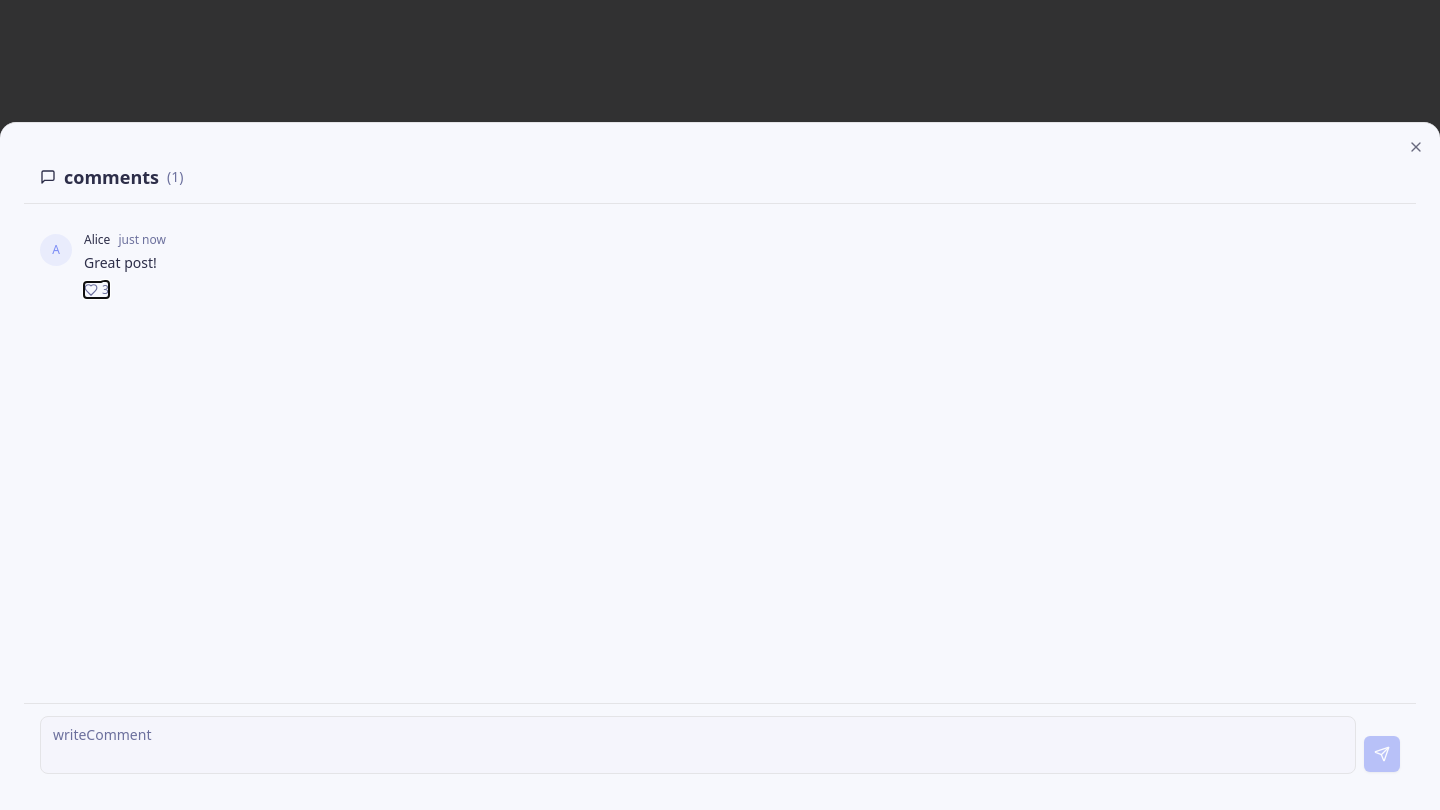
Scenario: CommentSheet › send button is enabled when input has content
Type "A new comment" into the text box. click: (698, 745)
box: left=40, top=716, right=1356, bottom=774
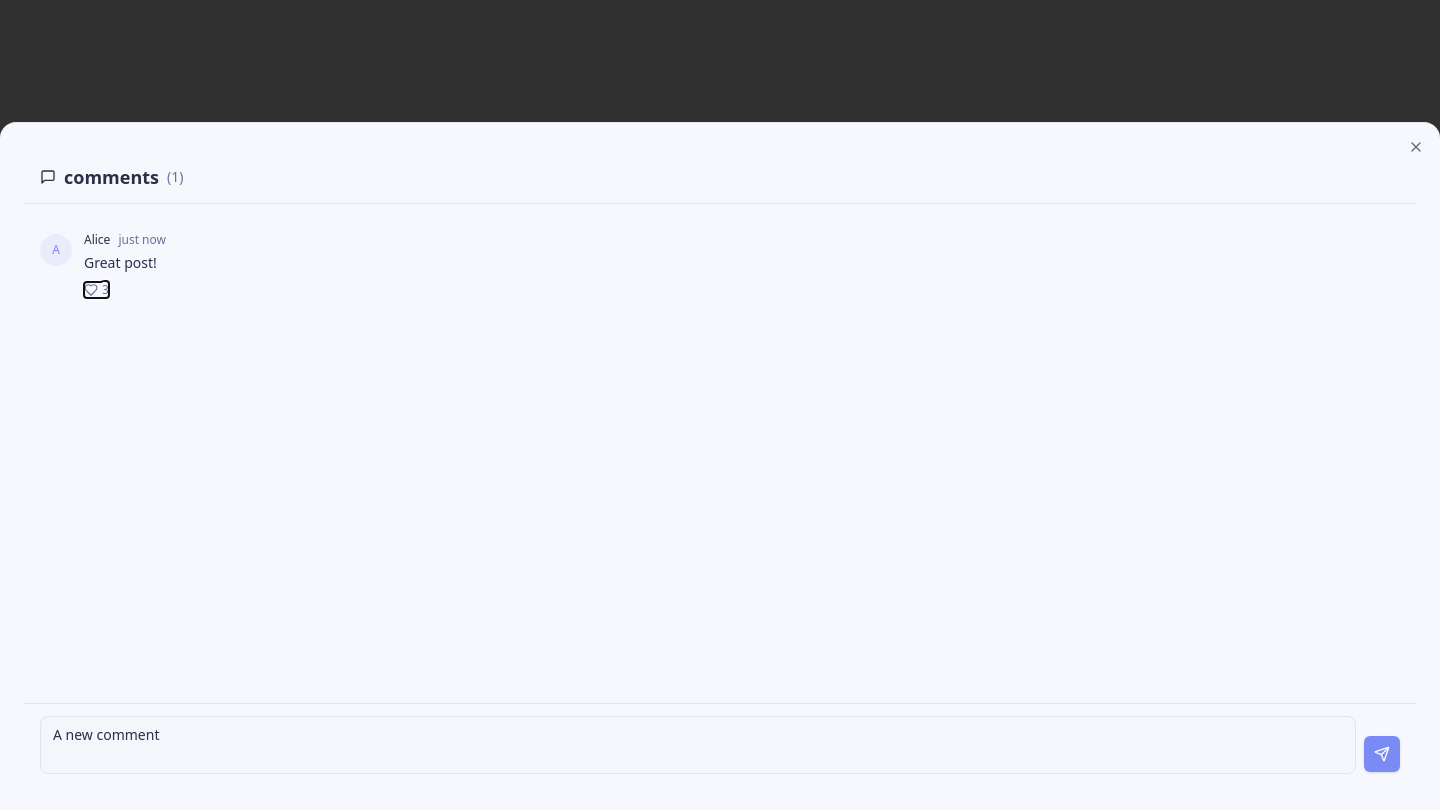
Expected: the button named "send" is enabled, left=1364, top=736, right=1400, bottom=772
